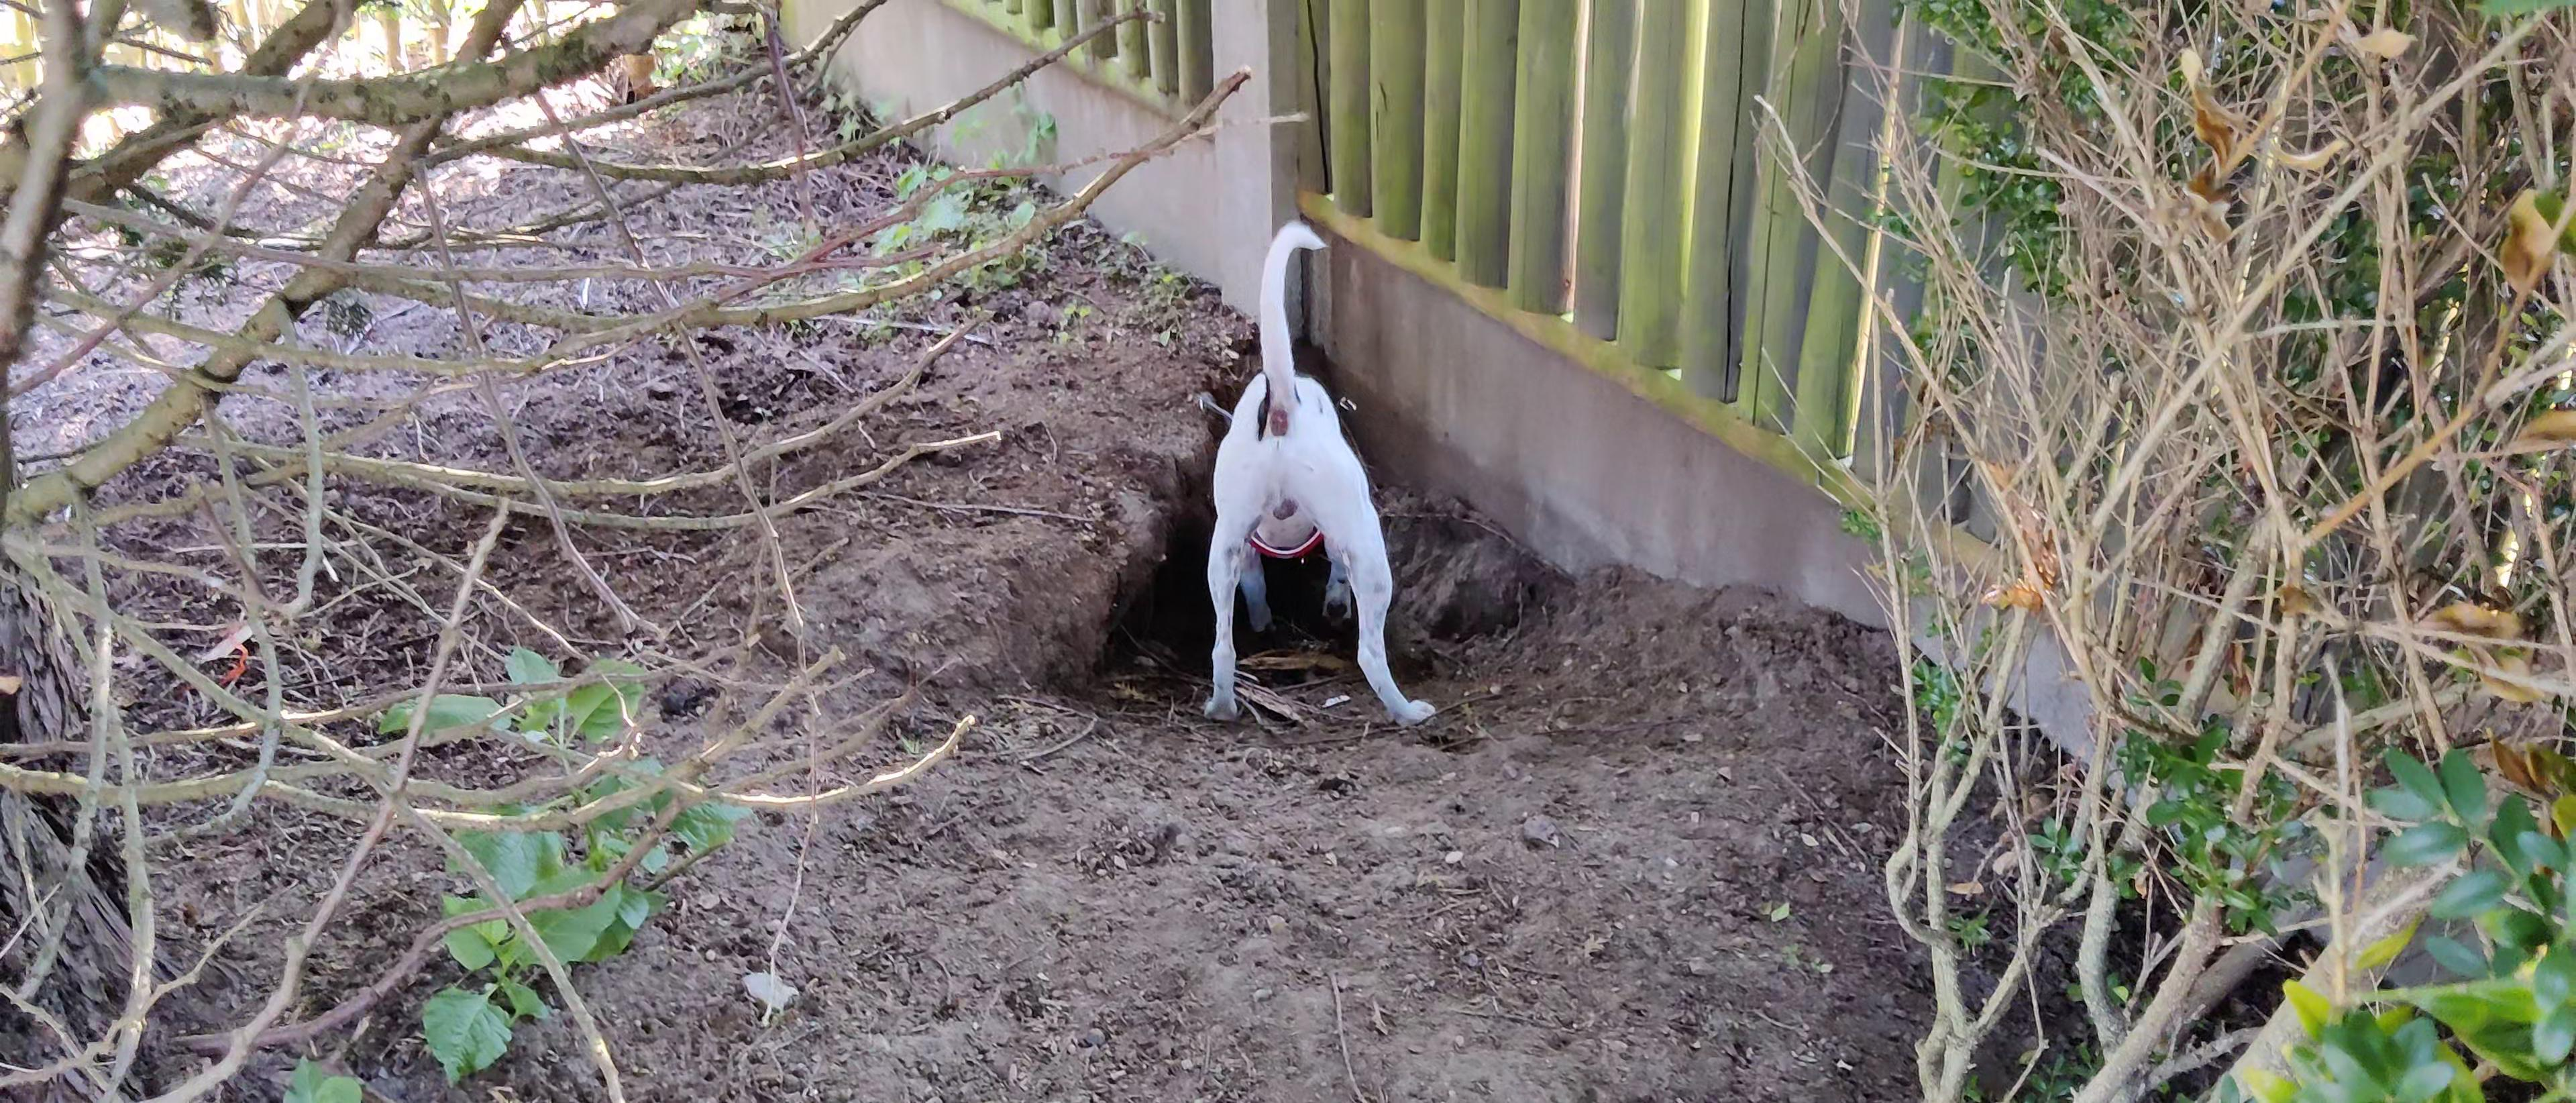Dog: (1178, 204, 1442, 731)
